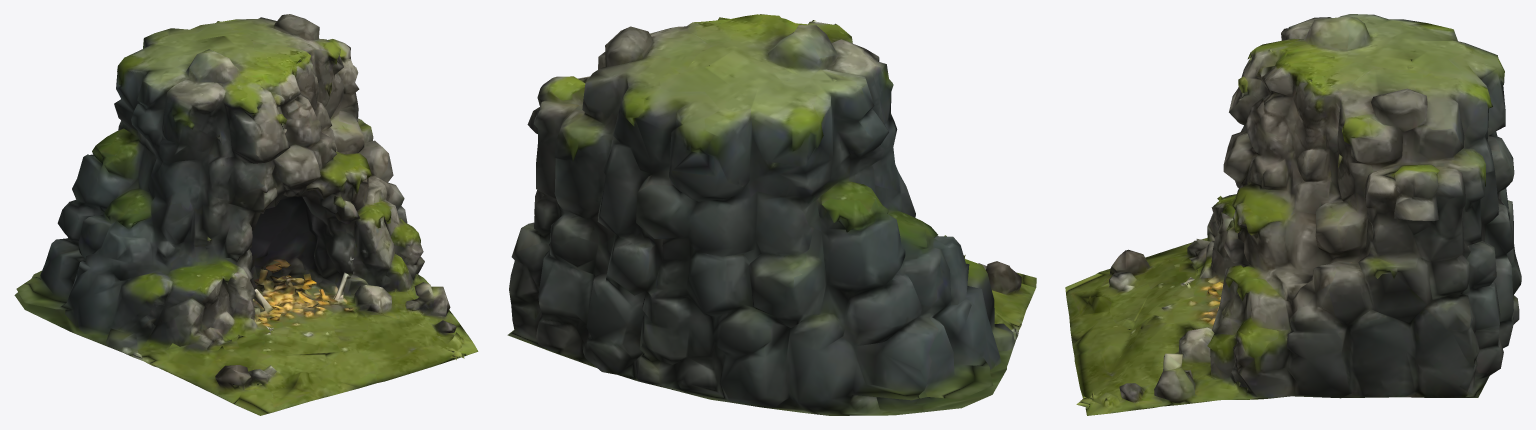
The model's file is cavemouth.glb.
3 renders of one model, left to right at view 1: azimuth 30°, elevation 25°; view 2: azimuth 150°, elevation 25°; view 3: azimuth 270°, elevation 25°, orthographic. The views are drawn at different scales.
Visible parts, largest first — view 1: tripo_node_4917fb1b-2162-4a01-a33e-6225f82fd4c4; view 2: tripo_node_4917fb1b-2162-4a01-a33e-6225f82fd4c4; view 3: tripo_node_4917fb1b-2162-4a01-a33e-6225f82fd4c4.
Boxes of the visible parts, <box> form: tripo_node_4917fb1b-2162-4a01-a33e-6225f82fd4c4: <box>14,14,478,415</box>; tripo_node_4917fb1b-2162-4a01-a33e-6225f82fd4c4: <box>507,14,1036,415</box>; tripo_node_4917fb1b-2162-4a01-a33e-6225f82fd4c4: <box>1065,14,1521,415</box>.
Bounding box in the file's own units: 0.9999 × 0.7192 × 0.9654.
Materials: 1 (1 with a texture image).
